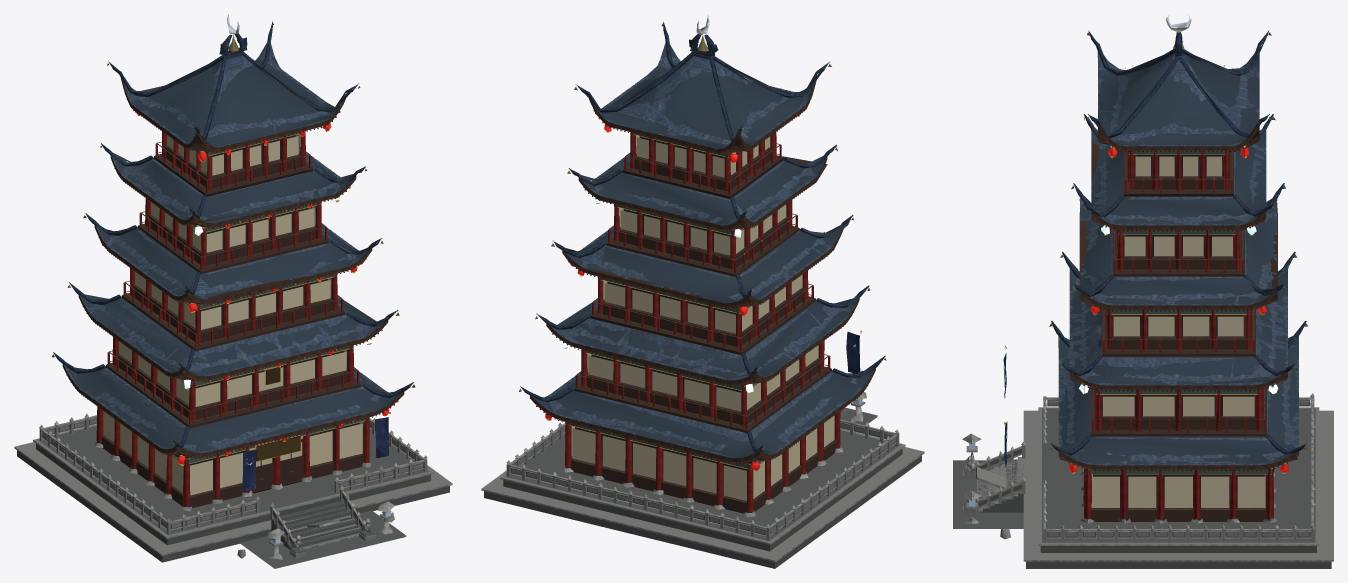
The model's file is guyue_pavilion_LOD0.gltf.
3 renders of one model, left to right at view 1: azimuth 30°, elevation 25°; view 2: azimuth 150°, elevation 25°; view 3: azimuth 270°, elevation 25°, orthographic. The views are drawn at different scales.
Parts seen in each view (by area): view 1: Far, Near; view 2: Far, Near; view 3: Far, Near.
Part boxes in pixels (x1,y1,x2,y2): Far: [14, 22, 452, 568]; Near: [14, 14, 452, 559]; Far: [481, 25, 924, 568]; Near: [481, 14, 924, 562]; Far: [953, 22, 1333, 568]; Near: [962, 14, 1333, 561].
Size of the model in its own units: 24.3 by 36.76 by 26.15.
Materials: 21 (16 with a texture image).
